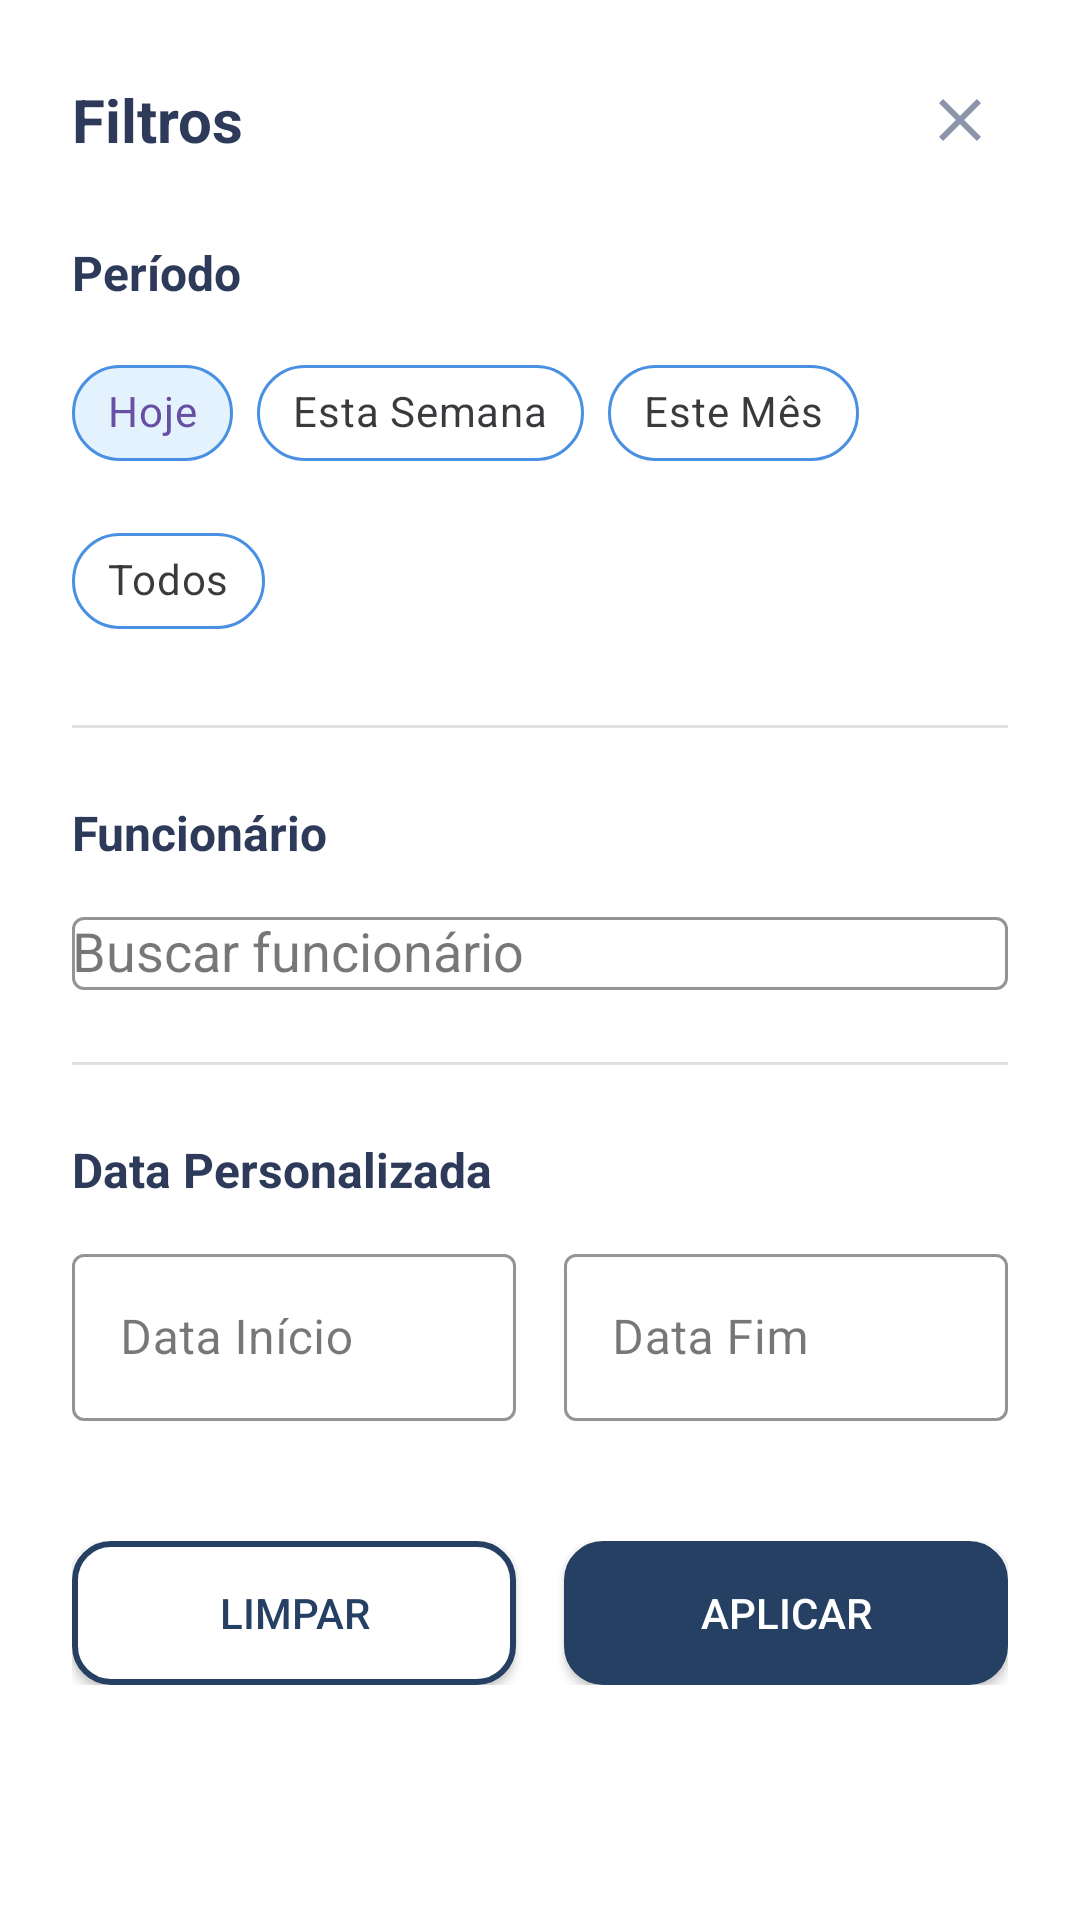

Where icons sit on this 1080px×1920px app screen, as (x1, y1, x2, y2):
close: (939, 99, 981, 141)
